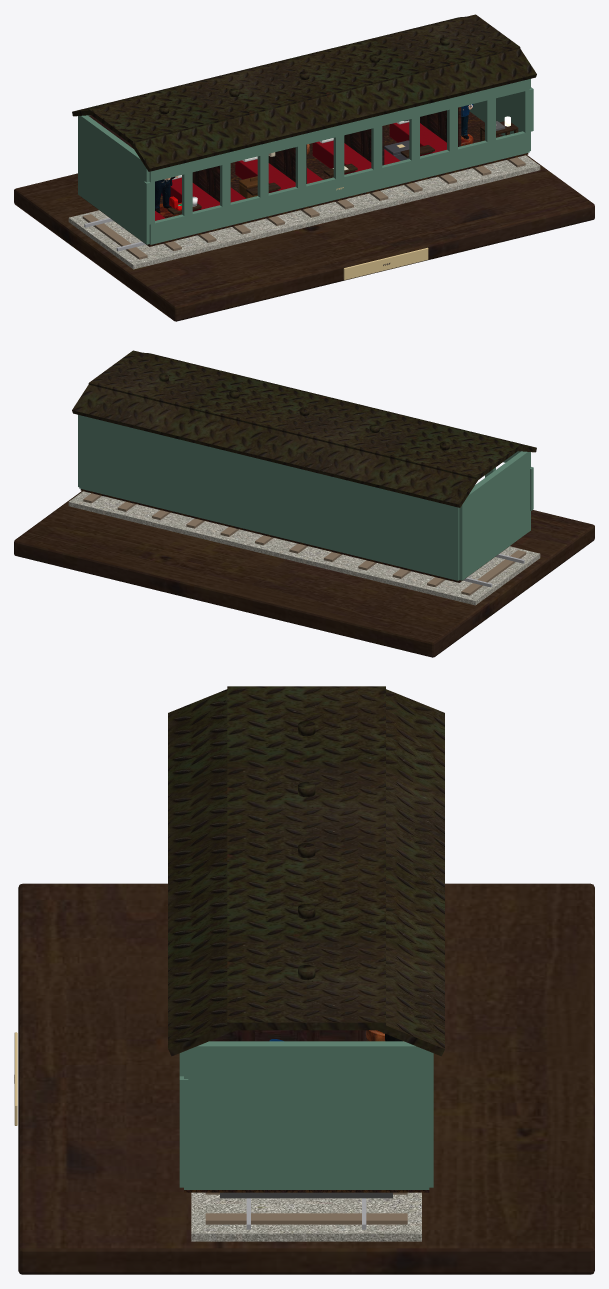
The model's file is case_train.glb.
The picture shows the model from 3 angles, top to bottom: view 1: azimuth 30°, elevation 25°; view 2: azimuth 150°, elevation 25°; view 3: azimuth 270°, elevation 25°; orthographic projection. The views are drawn at different scales.
Parts seen in each view (by area): view 1: display_board, roof_top, roof_front, car_front_low, ballast, car_end_l, lid_front_top, car_floor, plaque, car_end_r, berth2r, berth3r (+20 smaller); view 2: display_board, car_back, roof_top, roof_back, ballast, car_end_l, car_floor, roof_front, sleeper0; view 3: display_board, roof_top, car_end_r, roof_front, roof_back, ballast, sleeper11, cwall3, underframe, pier10.
Boxes of the visible parts, x1,y1,x2,y2 form: display_board: [14, 155, 594, 321]; roof_top: [88, 14, 520, 143]; roof_front: [130, 48, 536, 171]; car_front_low: [149, 131, 529, 244]; ballast: [68, 155, 540, 269]; car_end_l: [78, 115, 149, 244]; lid_front_top: [149, 79, 529, 182]; car_floor: [81, 111, 528, 246]; plaque: [343, 247, 428, 280]; car_end_r: [469, 79, 530, 150]; berth2r: [312, 140, 371, 174]; berth3r: [389, 122, 446, 156]; display_board: [14, 491, 594, 657]; car_back: [79, 415, 459, 580]; roof_top: [88, 350, 520, 481]; roof_back: [72, 384, 477, 507]; ballast: [68, 491, 540, 605]; car_end_l: [459, 451, 530, 580]; car_floor: [80, 489, 527, 582]; roof_front: [143, 352, 536, 452]; sleeper0: [461, 550, 526, 595]; display_board: [18, 883, 594, 1274]; roof_top: [227, 686, 385, 1030]; car_end_r: [184, 1041, 429, 1189]; roof_front: [168, 689, 236, 1056]; roof_back: [376, 689, 444, 1056]; ballast: [191, 1192, 421, 1241]; sleeper11: [205, 1213, 407, 1224]; cwall3: [210, 1030, 364, 1041]; underframe: [220, 1192, 392, 1198]; pier10: [179, 1076, 188, 1154].
Bounding box in the file's own units: 0.6 × 0.189 × 0.403.
Materials: 39 (14 with a texture image).
